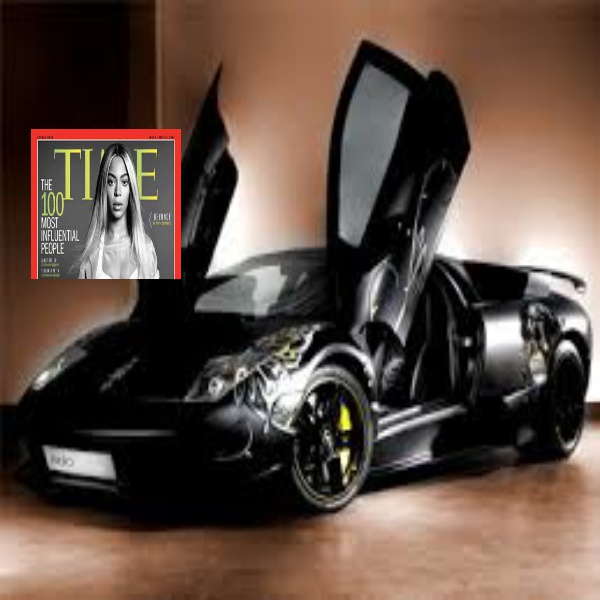time_cover: (26, 126, 185, 287)
